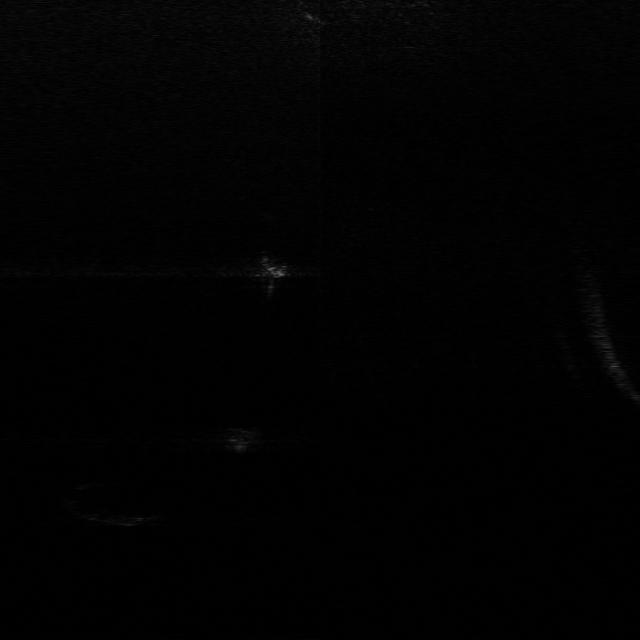cube: (216, 422, 266, 454)
square cage: (244, 246, 292, 284)
tyre: (61, 481, 170, 529)
